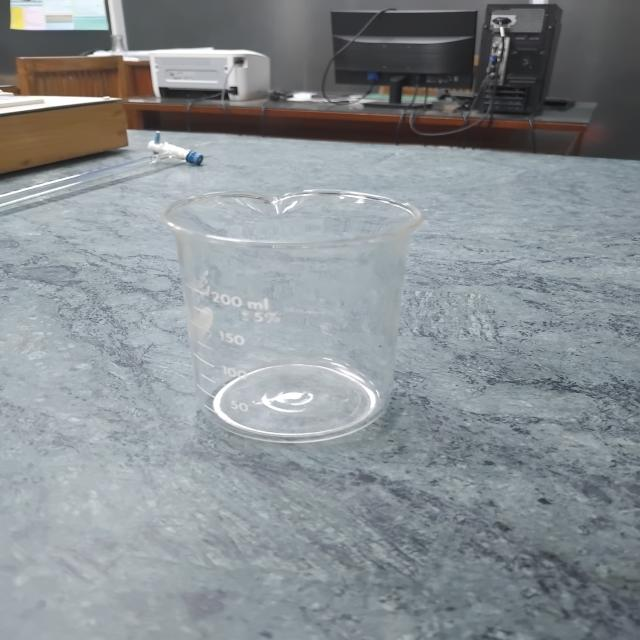Beaker: (109, 163, 474, 465)
